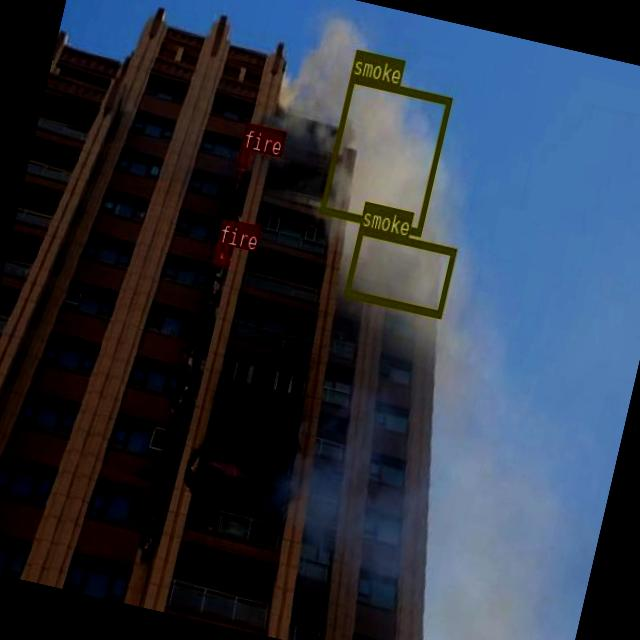fire: (211, 242, 231, 266), (237, 146, 250, 166)
smoke: (318, 73, 451, 234), (343, 226, 456, 316)
